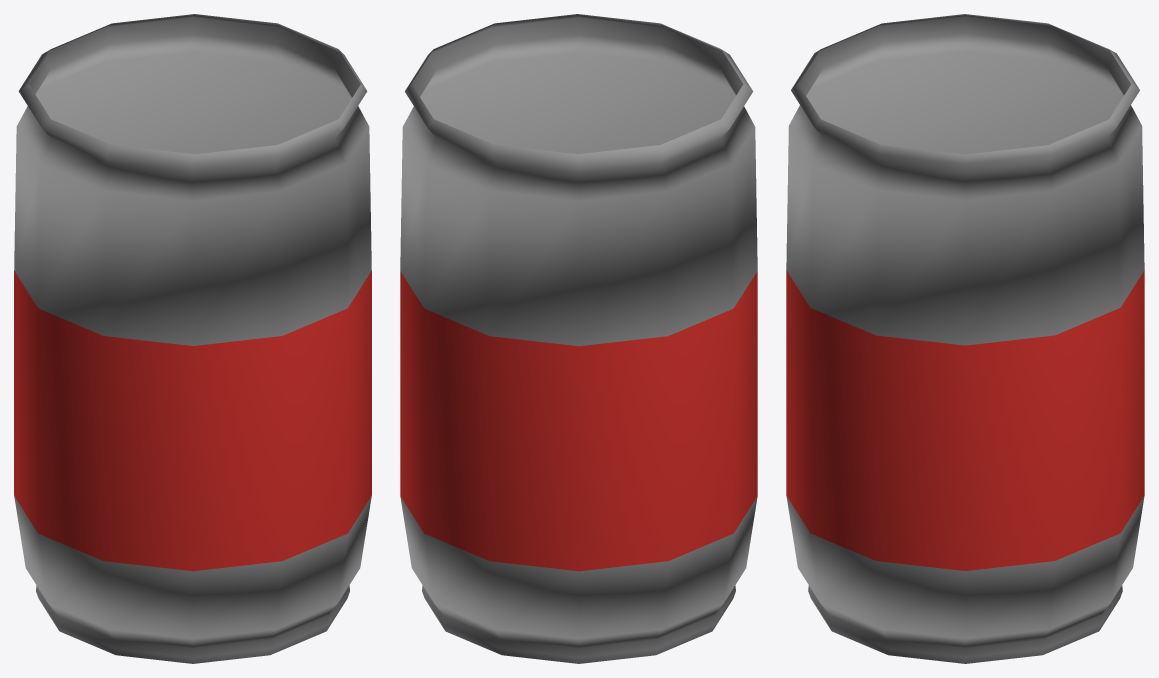
The model's file is lata de sumo.fbx.
3 views of the same model, side by side, from view 1: azimuth 30°, elevation 25°; view 2: azimuth 150°, elevation 25°; view 3: azimuth 270°, elevation 25° (orthographic).
Parts seen in each view (by area): view 1: Cylinder.020; view 2: Cylinder.020; view 3: Cylinder.020.
Boxes of the visible parts, x1=… form: Cylinder.020: x1=14, y1=14, x2=371, y2=663; Cylinder.020: x1=400, y1=14, x2=757, y2=663; Cylinder.020: x1=786, y1=14, x2=1144, y2=663.
Bounding box in the file's own units: 90.02 × 143 × 90.02.
